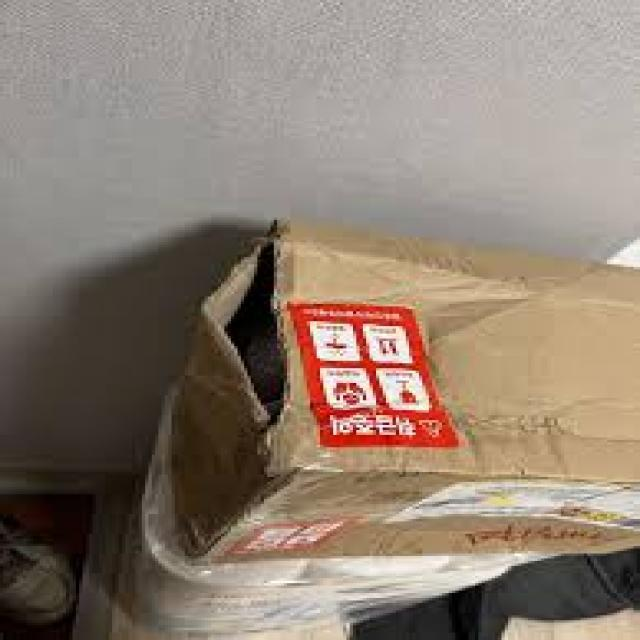box: (166, 190, 392, 375), (125, 433, 374, 593), (243, 56, 461, 228), (174, 344, 431, 489), (365, 428, 583, 586), (376, 198, 554, 371), (33, 380, 183, 520), (421, 342, 556, 471), (106, 256, 194, 416)
